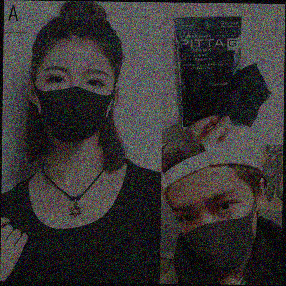with_mask: (170, 186, 258, 278), (33, 62, 116, 146)
